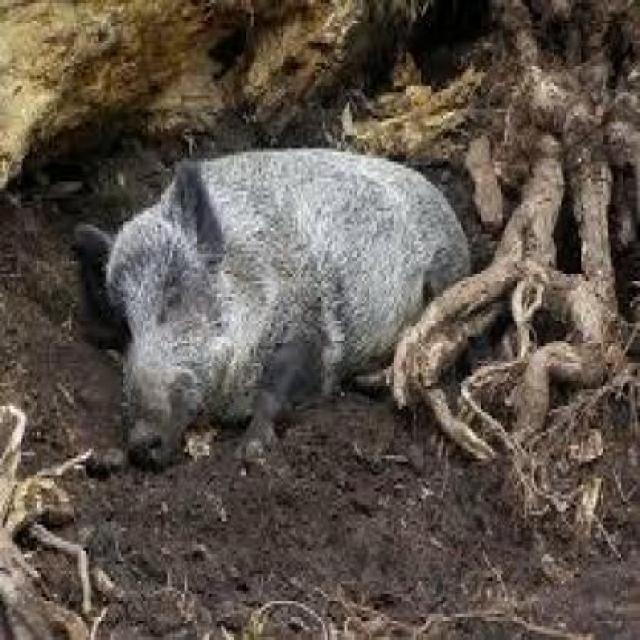wildboar: (72, 144, 474, 473)
